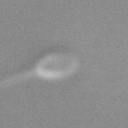normal: (1, 69, 33, 95)
